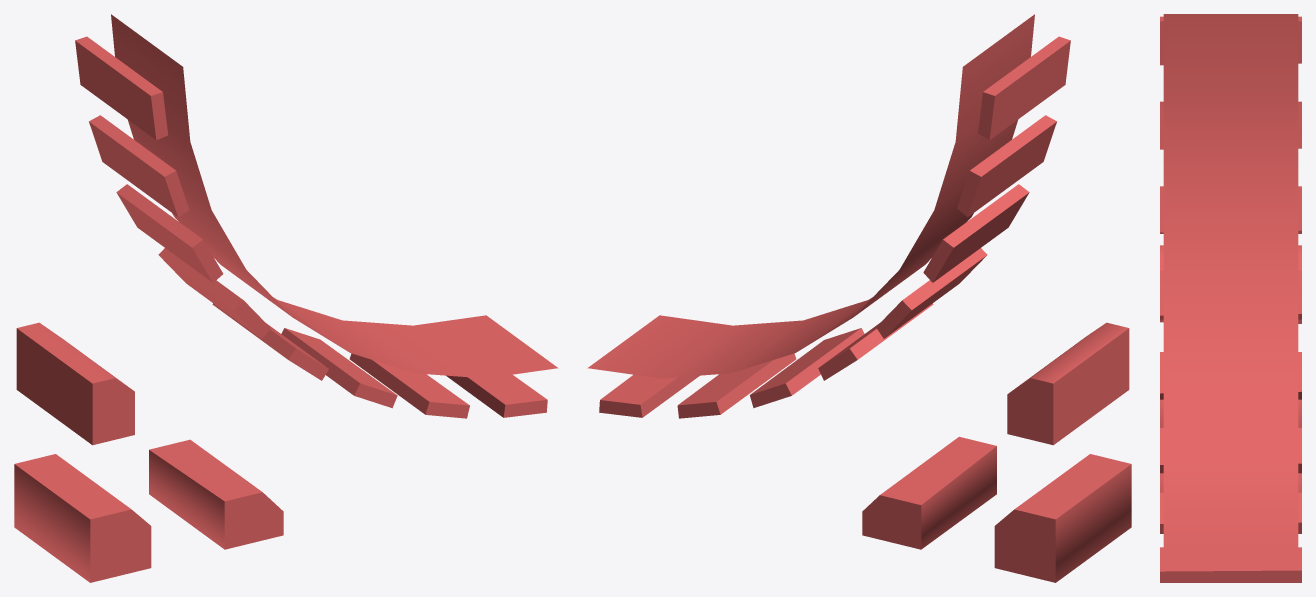
The model's file is Slope2Color_New.fbx.
3 renders of one model, left to right at view 1: azimuth 30°, elevation 25°; view 2: azimuth 150°, elevation 25°; view 3: azimuth 270°, elevation 25°, orthographic. The views are drawn at different scales.
Parts seen in each view (by area): view 1: polySurface488; view 2: polySurface488; view 3: polySurface488.
Boxes of the visible parts, x1,y1,x2,y2 form: polySurface488: [14, 14, 558, 582]; polySurface488: [587, 14, 1131, 582]; polySurface488: [1160, 14, 1301, 582].
Bounding box in the file's own units: 3.65 × 3.65 × 1.02.
